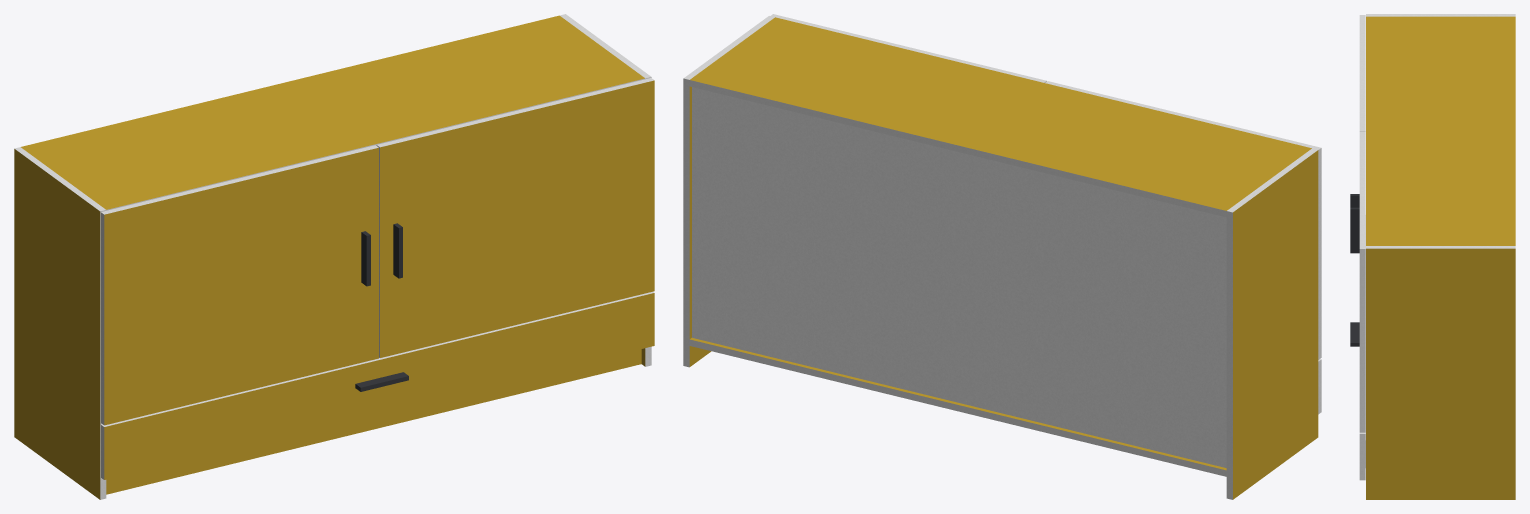
Rendered from FET-SDB-std.glb.
The picture shows the model from 3 angles, left to right: view 1: azimuth 30°, elevation 25°; view 2: azimuth 150°, elevation 25°; view 3: azimuth 270°, elevation 25°; orthographic projection. The views are drawn at different scales.
Parts seen in each view (by area): view 1: door-l:pbr, door-r:pbr, top:pbr, d1-front:pbr, side-l:pbr, plinth:pbr, pull, d1-front:sheet:eyJtIjoibWRmIiwic2lkZSI6ImVkZ2UtbG9uZyIsInNlZ, door-l:sheet:eyJtIjoibWRmIiwic2lkZSI6ImVkZ2UtbG9uZyIsInNlZWQ, door-r:sheet:eyJtIjoibWRmIiwic2lkZSI6ImVkZ2UtbG9uZyIsInNlZWQ, top:sheet:eyJtIjoibWRmIiwic2lkZSI6ImVkZ2UtbG9uZyIsInNlZWQiOj, door-l:sheet:eyJtIjoibWRmIiwic2lkZSI6ImVkZ2UtZW5kIiwic2VlZCI; view 2: back:sheet:eyJtIjoibWRmIiwic2lkZSI6ImZhY2UiLCJzZWVkIjoyLCJ0a, top:pbr, side-l:pbr, bottom:sheet:eyJtIjoibWRmIiwic2lkZSI6ImVkZ2UtbG9uZyIsInNlZWQ, top:sheet:eyJtIjoibWRmIiwic2lkZSI6ImVkZ2UtbG9uZyIsInNlZWQiOj, side-r:sheet:eyJtIjoibWRmIiwic2lkZSI6ImVkZ2UtbG9uZyIsInNlZWQ, side-l:sheet:eyJtIjoibWRmIiwic2lkZSI6ImVkZ2UtbG9uZyIsInNlZWQ, bottom:pbr, side-r:pbr, door-l:sheet:eyJtIjoibWRmIiwic2lkZSI6ImVkZ2UtbG9uZyIsInNlZWQ, door-r:sheet:eyJtIjoibWRmIiwic2lkZSI6ImVkZ2UtbG9uZyIsInNlZWQ, door-l:sheet:eyJtIjoibWRmIiwic2lkZSI6ImVkZ2UtZW5kIiwic2VlZCI; view 3: side-r:pbr, top:pbr, door-r:sheet:eyJtIjoibWRmIiwic2lkZSI6ImVkZ2UtZW5kIiwic2VlZCI, pull, door-l:sheet:eyJtIjoibWRmIiwic2lkZSI6ImVkZ2UtbG9uZyIsInNlZWQ, door-r:sheet:eyJtIjoibWRmIiwic2lkZSI6ImVkZ2UtbG9uZyIsInNlZWQ, side-l:sheet:eyJtIjoibWRmIiwic2lkZSI6ImVkZ2UtZW5kIiwic2VlZCI, side-r:sheet:eyJtIjoibWRmIiwic2lkZSI6ImVkZ2UtZW5kIiwic2VlZCI, d1-front:sheet:eyJtIjoibWRmIiwic2lkZSI6ImVkZ2UtZW5kIiwic2VlZ, d1-box-front:sheet:eyJtIjoibWRmIiwic2lkZSI6ImVkZ2UtbG9uZyIsI.
Part boxes in pixels (x1,y1,x2,y2): door-l:pbr: (104, 147, 378, 425); door-r:pbr: (380, 80, 654, 357); top:pbr: (21, 15, 644, 209); d1-front:pbr: (104, 293, 654, 479); side-l:pbr: (14, 149, 100, 499); plinth:pbr: (106, 349, 641, 494); pull: (355, 223, 408, 391); d1-front:sheet:eyJtIjoibWRmIiwic2lkZSI6ImVkZ2UtbG9uZyIsInNlZ: (101, 291, 654, 426); door-l:sheet:eyJtIjoibWRmIiwic2lkZSI6ImVkZ2UtbG9uZyIsInNlZWQ: (101, 145, 378, 214); door-r:sheet:eyJtIjoibWRmIiwic2lkZSI6ImVkZ2UtbG9uZyIsInNlZWQ: (377, 78, 654, 147); top:sheet:eyJtIjoibWRmIiwic2lkZSI6ImVkZ2UtbG9uZyIsInNlZWQiOj: (106, 78, 645, 210); door-l:sheet:eyJtIjoibWRmIiwic2lkZSI6ImVkZ2UtZW5kIiwic2VlZCI: (101, 212, 104, 424); back:sheet:eyJtIjoibWRmIiwic2lkZSI6ImZhY2UiLCJzZWVkIjoyLCJ0a: (692, 87, 1226, 467); top:pbr: (690, 17, 1311, 210); side-l:pbr: (1233, 150, 1318, 499); bottom:sheet:eyJtIjoibWRmIiwic2lkZSI6ImVkZ2UtbG9uZyIsInNlZWQ: (689, 339, 1226, 476); top:sheet:eyJtIjoibWRmIiwic2lkZSI6ImVkZ2UtbG9uZyIsInNlZWQiOj: (689, 80, 1226, 217); side-r:sheet:eyJtIjoibWRmIiwic2lkZSI6ImVkZ2UtbG9uZyIsInNlZWQ: (683, 78, 689, 367); side-l:sheet:eyJtIjoibWRmIiwic2lkZSI6ImVkZ2UtbG9uZyIsInNlZWQ: (1226, 211, 1232, 499); bottom:pbr: (690, 338, 1226, 470); side-r:pbr: (689, 86, 711, 366); door-l:sheet:eyJtIjoibWRmIiwic2lkZSI6ImVkZ2UtbG9uZyIsInNlZWQ: (1045, 81, 1321, 149); door-r:sheet:eyJtIjoibWRmIiwic2lkZSI6ImVkZ2UtbG9uZyIsInNlZWQ: (771, 14, 1046, 82); door-l:sheet:eyJtIjoibWRmIiwic2lkZSI6ImVkZ2UtZW5kIiwic2VlZCI: (1318, 148, 1321, 359); side-r:pbr: (1366, 248, 1515, 499); top:pbr: (1366, 16, 1515, 245); door-r:sheet:eyJtIjoibWRmIiwic2lkZSI6ImVkZ2UtZW5kIiwic2VlZCI: (1359, 249, 1365, 432); pull: (1350, 194, 1359, 346); door-l:sheet:eyJtIjoibWRmIiwic2lkZSI6ImVkZ2UtbG9uZyIsInNlZWQ: (1359, 15, 1365, 131); door-r:sheet:eyJtIjoibWRmIiwic2lkZSI6ImVkZ2UtbG9uZyIsInNlZWQ: (1359, 132, 1365, 248); side-l:sheet:eyJtIjoibWRmIiwic2lkZSI6ImVkZ2UtZW5kIiwic2VlZCI: (1366, 14, 1515, 16); side-r:sheet:eyJtIjoibWRmIiwic2lkZSI6ImVkZ2UtZW5kIiwic2VlZCI: (1366, 246, 1515, 248); d1-front:sheet:eyJtIjoibWRmIiwic2lkZSI6ImVkZ2UtZW5kIiwic2VlZ: (1359, 434, 1365, 480); d1-box-front:sheet:eyJtIjoibWRmIiwic2lkZSI6ImVkZ2UtbG9uZyIsI: (1365, 217, 1365, 437).
Bounding box in the file's own units: 1.6 × 0.8 × 0.4769.
55 materials, 42 textured.
